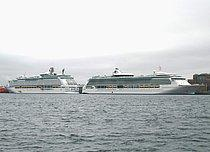Ship: (83, 66, 204, 98), (4, 65, 82, 95)
